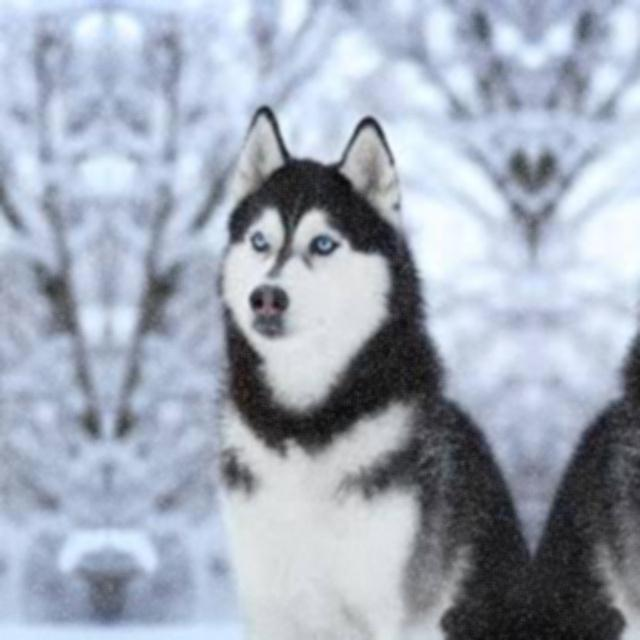dog: (175, 78, 532, 640), (532, 78, 640, 640), (0, 78, 38, 640)
